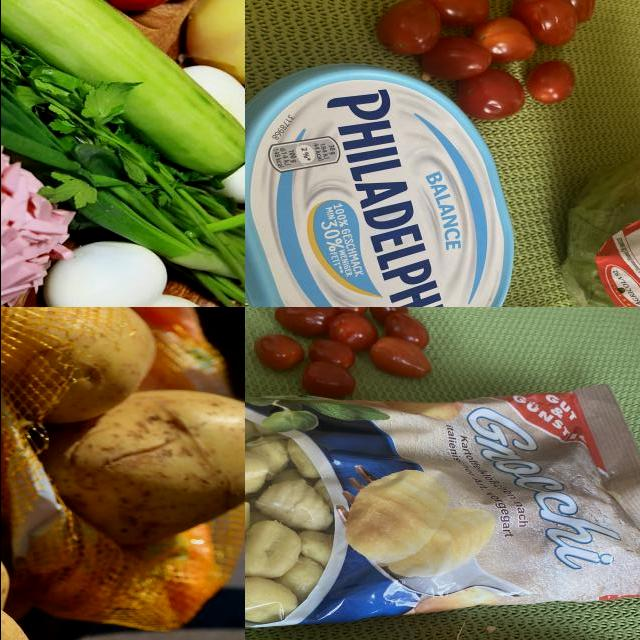egg: (46, 242, 174, 308), (219, 134, 245, 197)
potato: (58, 392, 245, 547), (1, 308, 162, 425), (200, 1, 245, 83)
tomato: (369, 1, 635, 145), (245, 308, 447, 406)
